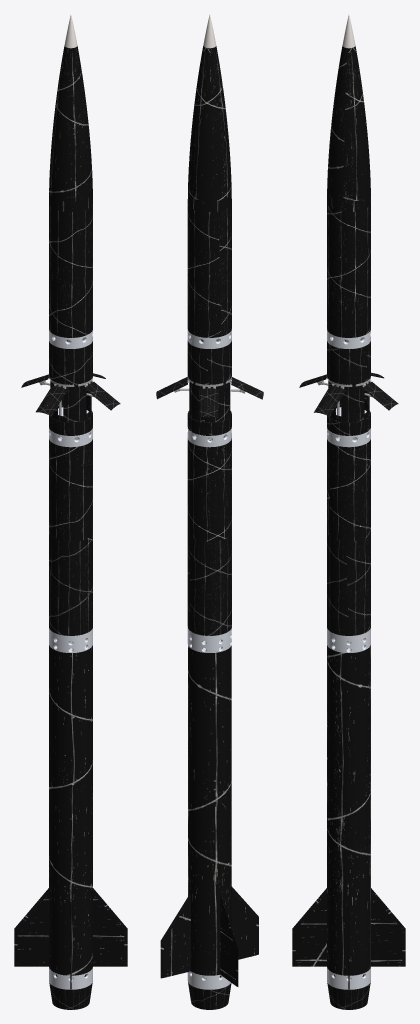
The model's file is ensamblaje1.gltf.
3 views of the same model, side by side, from view 1: azimuth 90°, elevation 25°; view 2: azimuth 210°, elevation 25°; view 3: azimuth 270°, elevation 25° (orthographic).
Parts seen in each view (by area): view 1: f3-1, nariz-1, f2-1, ftres_2-1, ftres-1, frenocase-1, f4-1, a5-1, a4-1, Aletas-3, Aletas-2, a1-1 (+1 smaller); view 2: f3-1, f2-1, nariz-1, ftres_2-1, ftres-1, frenocase-1, f4-1, a4-1, Aletas-4, a5-1, a1_2-1, a1-1 (+1 smaller); view 3: f3-1, nariz-1, f2-1, ftres_2-1, ftres-1, frenocase-1, f4-1, a5-1, a4-1, Aletas-1, Aletas-4, a1-1 (+1 smaller).
Part boxes in pixels (<box>): f3-1: <box>14,645,127,989</box>; nariz-1: <box>49,46,92,211</box>; f2-1: <box>49,204,92,337</box>; ftres_2-1: <box>49,439,92,541</box>; ftres-1: <box>49,533,92,635</box>; frenocase-1: <box>49,341,92,435</box>; f4-1: <box>49,974,92,1009</box>; a5-1: <box>49,967,92,989</box>; a4-1: <box>49,631,92,652</box>; Aletas-3: <box>36,385,67,416</box>; Aletas-2: <box>84,381,120,410</box>; a1-1: <box>49,408,92,443</box>; f3-1: <box>160,645,258,986</box>; f2-1: <box>187,203,231,337</box>; nariz-1: <box>187,46,231,211</box>; ftres_2-1: <box>187,438,231,541</box>; ftres-1: <box>187,533,231,635</box>; frenocase-1: <box>187,340,231,435</box>; f4-1: <box>188,975,231,1009</box>; a4-1: <box>187,630,231,652</box>; Aletas-4: <box>199,387,218,417</box>; a5-1: <box>187,971,230,989</box>; a1_2-1: <box>187,329,231,345</box>; a1-1: <box>187,427,231,443</box>; f3-1: <box>292,645,405,989</box>; nariz-1: <box>327,46,370,211</box>; f2-1: <box>327,204,370,337</box>; ftres_2-1: <box>327,439,370,541</box>; ftres-1: <box>327,533,370,635</box>; frenocase-1: <box>327,341,370,435</box>; f4-1: <box>327,974,370,1009</box>; a5-1: <box>327,967,370,989</box>; a4-1: <box>327,631,370,652</box>; Aletas-1: <box>314,385,345,416</box>; Aletas-4: <box>362,381,398,410</box>; a1-1: <box>327,408,370,443</box>.
Size of the model in its own units: 0.327 by 3.14 by 0.327.
37 materials, 8 textured.
